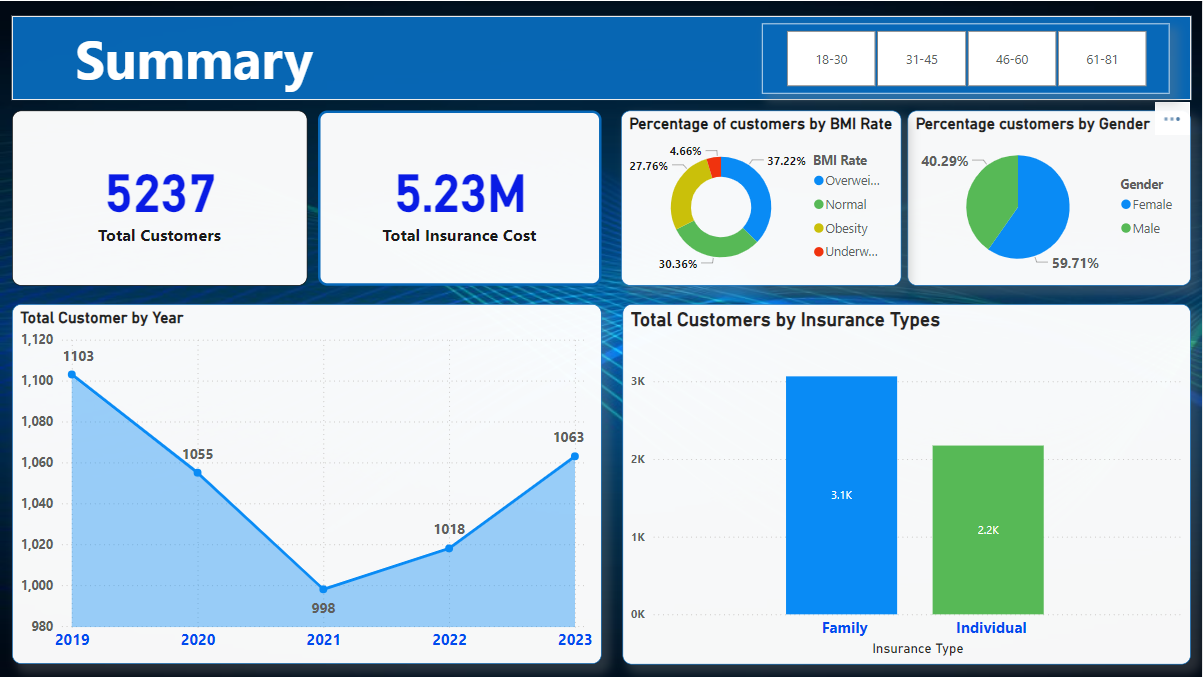

What the dashboard file says about the page in this screenshot:
{"tool":"powerbi","page":{"name":"Summary","canvas":[1280,720],"ordinal":1},"visuals":[{"type":"columnChart","title":"Total Customers by Insurance Types","fields":{"Category":["insurance_data_5237 (2).Insurance Type"],"Y":["CountNonNull(insurance_data_5237 (2).Customer ID)"],"Series":["insurance_data_5237 (2).Insurance Type"]},"box":[663.6,322.1,605.1,383.9],"z":0},{"type":"pieChart","title":"Percentage customers by Gender","fields":{"Y":["CountNonNull(insurance_data_5237 (2).Customer ID)"],"Category":["insurance_data_5237 (2).Gender"]},"box":[966.6,116.6,302,186.9],"z":1000},{"type":"lineChart","title":"Total Customer by Year","fields":{"Category":["insurance_data_5237 (2).Year"],"Y":["CountNonNull(insurance_data_5237 (2).Customer ID)"]},"box":[12.8,322.7,627.9,383.4],"z":2000},{"type":"textbox","box":[13,16.3,1255.7,89.5],"z":3000},{"type":"slicer","fields":{"Values":["insurance_data_5237 (2).Age Groups"]},"box":[811.6,24.4,434.3,74.8],"z":4000},{"type":"donutChart","title":"Percentage of customers by BMI Rate","fields":{"Category":["insurance_data_5237 (2).BMI Rate"],"Y":["CountNonNull(insurance_data_5237 (2).Customer ID)"]},"box":[661.4,116.6,298.8,186.9],"z":5000},{"type":"card","fields":{"Values":["Sum(insurance_data_5237 (2).Insurance Cost)"]},"box":[338.7,116.6,302,186.9],"z":6000},{"type":"card","fields":{"Values":["CountNonNull(insurance_data_5237 (2).Customer ID)"]},"box":[12.8,116.6,314.7,186.9],"z":7000}]}

Visuals, with their boxes in screenshot pixels (x1, y1, x2, y2), scaled from the page's 1280x720 canvas onto the 1203x677 screenshot:
"Total Customers by Insurance Types" columnChart: (x1=624, y1=303, x2=1192, y2=664)
"Percentage customers by Gender" pieChart: (x1=908, y1=110, x2=1192, y2=285)
"Total Customer by Year" lineChart: (x1=12, y1=303, x2=602, y2=664)
textbox: (x1=12, y1=15, x2=1192, y2=99)
slicer - insurance_data_5237 (2).Age Groups: (x1=763, y1=23, x2=1171, y2=93)
"Percentage of customers by BMI Rate" donutChart: (x1=622, y1=110, x2=902, y2=285)
card - Sum(insurance_data_5237 (2).Insurance Cost): (x1=318, y1=110, x2=602, y2=285)
card - CountNonNull(insurance_data_5237 (2).Customer ID): (x1=12, y1=110, x2=308, y2=285)
